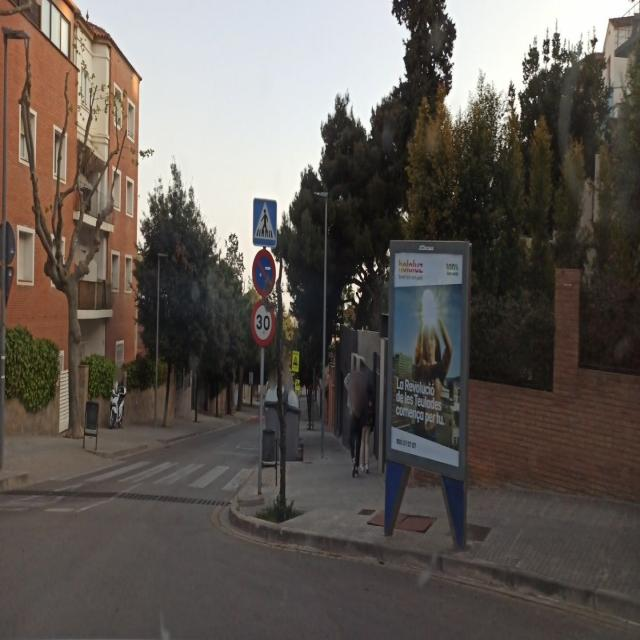forb_stopping: (252, 249, 276, 299)
